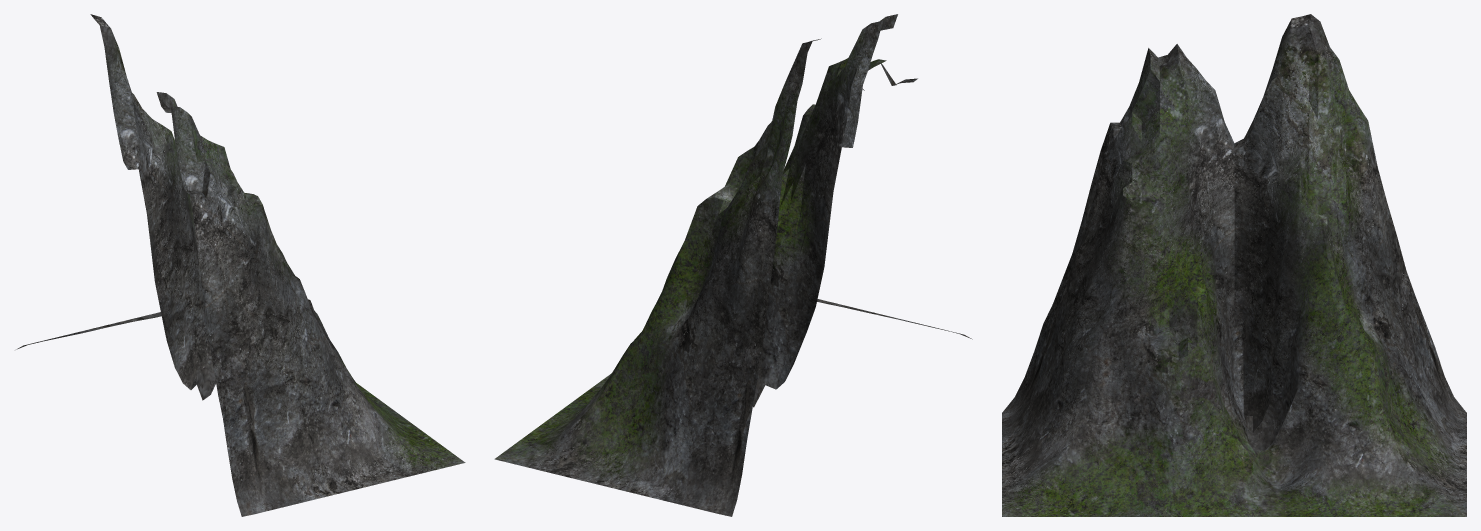
The model's file is cliff-1.glb.
3 views of the same model, side by side, from view 1: azimuth 30°, elevation 25°; view 2: azimuth 150°, elevation 25°; view 3: azimuth 270°, elevation 25° (orthographic). The views are drawn at different scales.
Visible parts, largest first — view 1: Landscape; view 2: Landscape; view 3: Landscape.
Boxes of the visible parts, left/top/right/bottom form: Landscape: left=16, top=14, right=465, bottom=516; Landscape: left=494, top=14, right=972, bottom=516; Landscape: left=1002, top=14, right=1466, bottom=516.
Bounding box in the file's own units: 488 × 823 × 878.
1 material, 1 textured.
